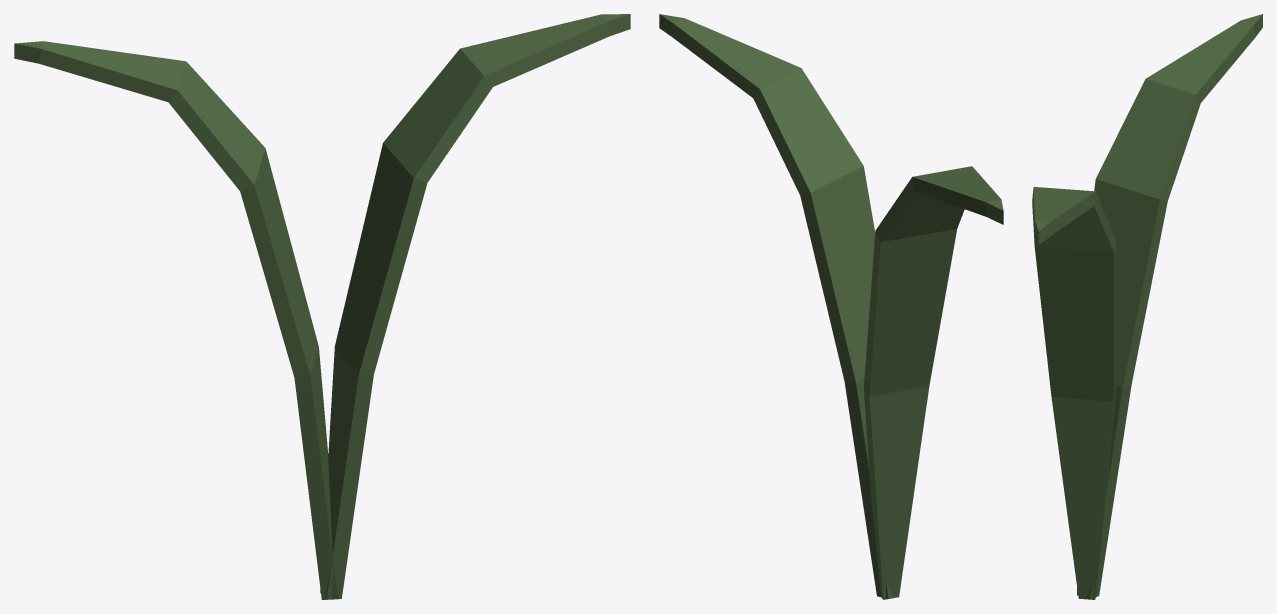
The model's file is Apple_1.glb.
3 views of the same model, side by side, from view 1: azimuth 30°, elevation 25°; view 2: azimuth 150°, elevation 25°; view 3: azimuth 270°, elevation 25° (orthographic). The views are drawn at different scales.
Visible parts, largest first — view 1: Apple_1; view 2: Apple_1; view 3: Apple_1.
Boxes of the visible parts, <box> form: Apple_1: <box>14,14,630,599</box>; Apple_1: <box>659,14,1003,599</box>; Apple_1: <box>1032,14,1262,599</box>.
Size of the model in its own units: 0.2378 by 0.2474 by 0.1066.
